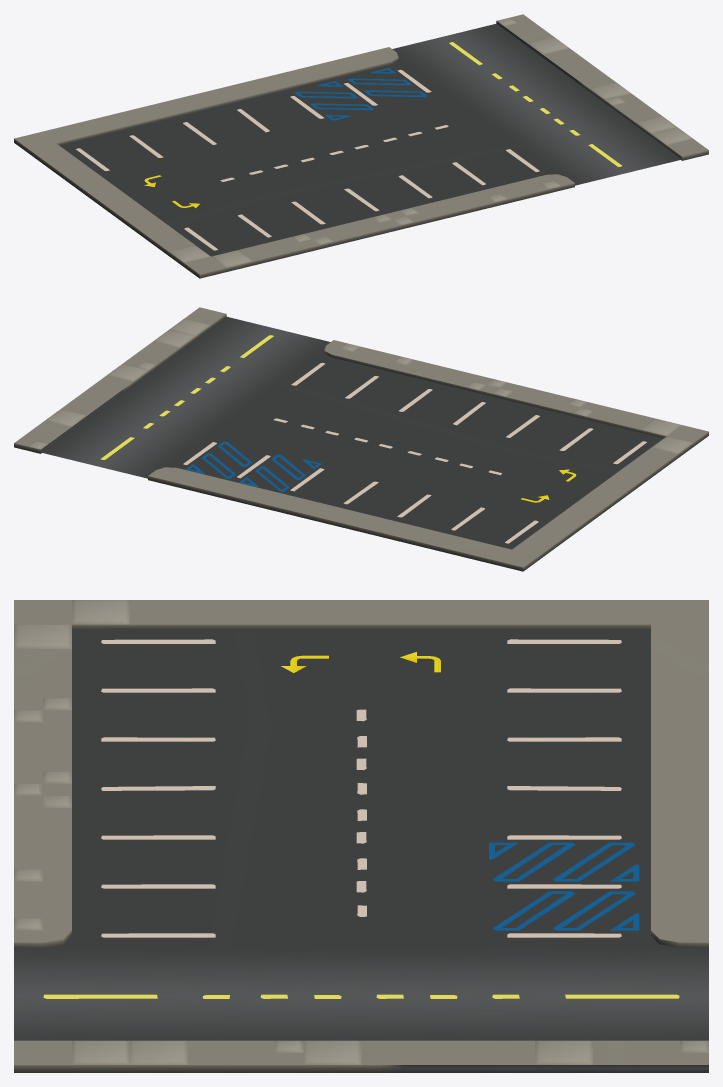
Rendered from Parking_1B.fbx.
3 views of the same model, one above another, from view 1: azimuth 30°, elevation 25°; view 2: azimuth 150°, elevation 25°; view 3: azimuth 270°, elevation 25° (orthographic). The views are drawn at different scales.
Visible parts, largest first — view 1: Parking_1B; view 2: Parking_1B; view 3: Parking_1B.
Boxes of the visible parts, left/top/right/bottom form: Parking_1B: left=14, top=14, right=708, bottom=278; Parking_1B: left=14, top=307, right=708, bottom=571; Parking_1B: left=14, top=600, right=708, bottom=1072.
Size of the model in its own units: 3800 by 35.65 by 2400.
